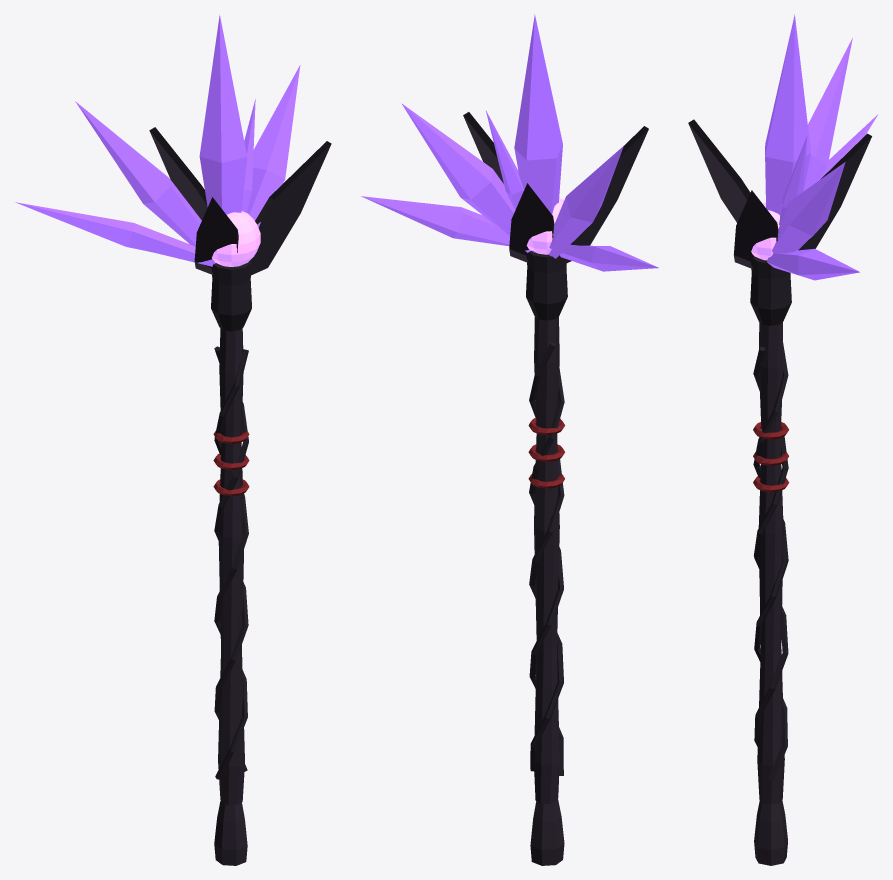
Rendered from staff_darkbloom.glb.
The picture shows the model from 3 angles, left to right: view 1: azimuth 30°, elevation 25°; view 2: azimuth 150°, elevation 25°; view 3: azimuth 270°, elevation 25°; orthographic projection. The views are drawn at different scales.
Visible parts, largest first — view 1: Db_Shaft, Db_Crystal0, Db_Crystal2, Db_Petal2, Db_Crystal1, Db_Crystal4, Db_Neck, Db_Vine1, Db_Butt, Db_Petal1, Db_Petal0, Db_Vine0 (+2 smaller); view 2: Db_Shaft, Db_Crystal0, Db_Crystal1, Db_Crystal3, Db_Crystal2, Db_Neck, Db_Vine0, Db_Petal0, Db_Butt, Db_Petal1, Db_Vine1, Db_Crystal4 (+3 smaller); view 3: Db_Shaft, Db_Crystal0, Db_Crystal1, Db_Crystal2, Db_Neck, Db_Petal1, Db_Vine0, Db_Butt, Db_Petal2, Db_Vine1, Db_Crystal3, Db_Petal0 (+3 smaller).
Part boxes in pixels (left/top/right/bottom): Db_Shaft: left=218, top=328, right=244, bottom=805; Db_Crystal0: left=199, top=14, right=247, bottom=214; Db_Crystal2: left=75, top=101, right=215, bottom=263; Db_Petal2: left=246, top=141, right=331, bottom=277; Db_Crystal1: left=246, top=65, right=300, bottom=227; Db_Crystal4: left=15, top=202, right=214, bottom=266; Db_Neck: left=211, top=261, right=251, bottom=331; Db_Vine1: left=214, top=349, right=248, bottom=779; Db_Butt: left=214, top=801, right=247, bottom=865; Db_Petal1: left=194, top=197, right=238, bottom=275; Db_Petal0: left=149, top=127, right=207, bottom=219; Db_Vine0: left=214, top=346, right=248, bottom=771; Db_Shaft: left=534, top=316, right=559, bottom=803; Db_Crystal0: left=514, top=14, right=562, bottom=252; Db_Crystal1: left=401, top=103, right=530, bottom=252; Db_Crystal3: left=361, top=196, right=509, bottom=246; Db_Crystal2: left=548, top=146, right=623, bottom=258; Db_Neck: left=526, top=251, right=567, bottom=320; Db_Vine0: left=529, top=342, right=564, bottom=771; Db_Petal0: left=509, top=183, right=554, bottom=262; Db_Butt: left=530, top=800, right=564, bottom=865; Db_Petal1: left=562, top=126, right=648, bottom=265; Db_Vine1: left=529, top=368, right=564, bottom=775; Db_Crystal4: left=560, top=244, right=658, bottom=271; Db_Shaft: left=757, top=322, right=784, bottom=804; Db_Crystal0: left=765, top=14, right=810, bottom=214; Db_Crystal1: left=772, top=162, right=845, bottom=253; Db_Crystal2: left=803, top=38, right=852, bottom=190; Db_Neck: left=750, top=257, right=791, bottom=325; Db_Petal1: left=688, top=119, right=750, bottom=222; Db_Vine0: left=753, top=343, right=788, bottom=780; Db_Butt: left=754, top=800, right=787, bottom=865; Db_Petal2: left=733, top=190, right=778, bottom=268; Db_Vine1: left=753, top=346, right=788, bottom=746; Db_Crystal3: left=767, top=248, right=859, bottom=280; Db_Petal0: left=798, top=133, right=871, bottom=250.
Size of the model in its own units: 0.9672 by 2.56 by 0.5235.
